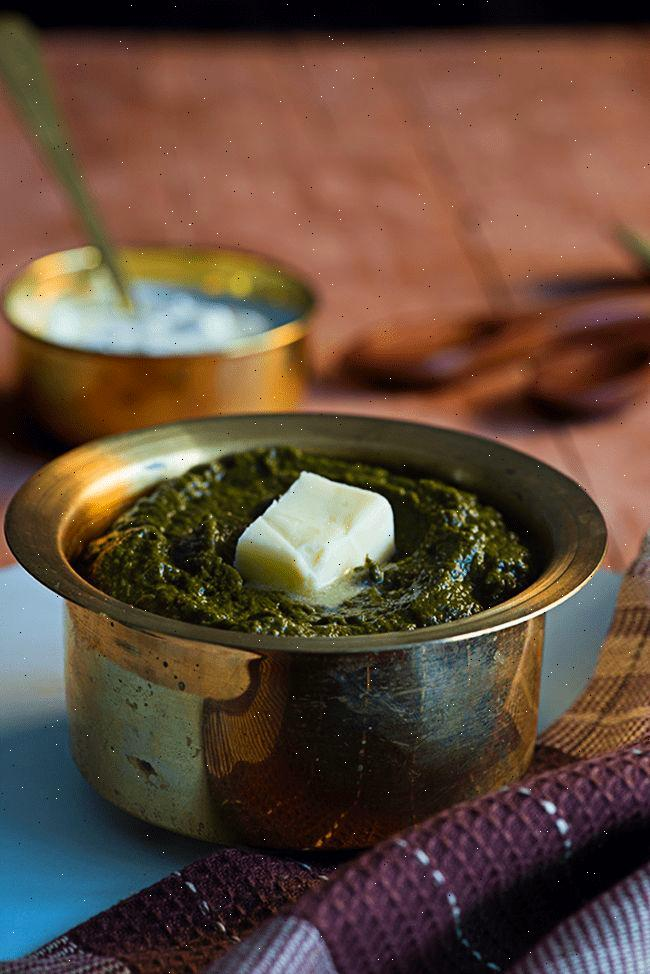saag: (72, 436, 538, 648)
